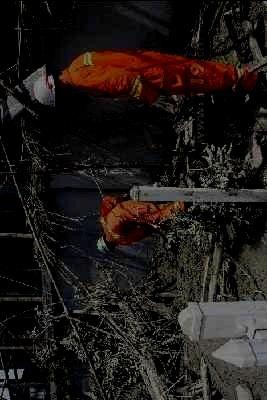helmet: (33, 74, 66, 107), (97, 235, 115, 254)
